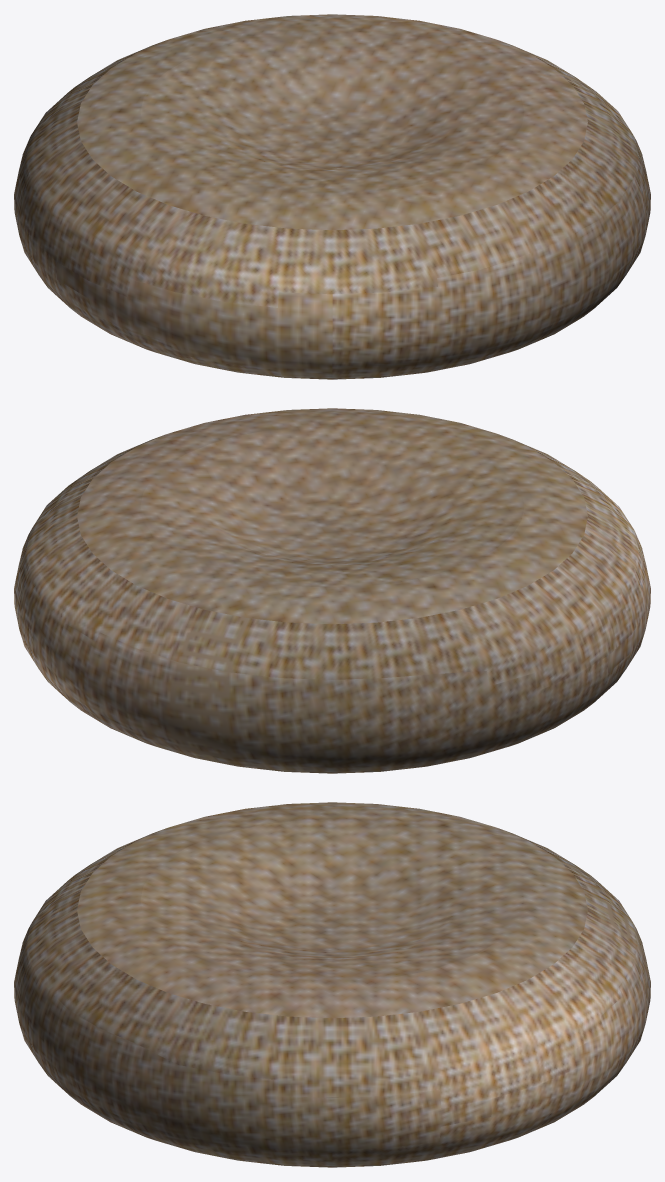
File: raw_model.obj
3 renders of one model, top to bottom at view 1: azimuth 30°, elevation 25°; view 2: azimuth 150°, elevation 25°; view 3: azimuth 270°, elevation 25°, orthographic.
Parts seen in each view (by area): view 1: solid_001, solid_002; view 2: solid_001, solid_002; view 3: solid_001, solid_002.
Boxes of the visible parts, box(x1,y1,x2,y2) form: solid_001: box(14, 40, 650, 379); solid_002: box(77, 14, 587, 230); solid_001: box(14, 434, 650, 773); solid_002: box(77, 408, 587, 624); solid_001: box(14, 828, 650, 1167); solid_002: box(77, 802, 587, 1018).
Size of the model in its own units: 0.5018 by 0.1355 by 0.5018.
Materials: 1 (1 with a texture image).
